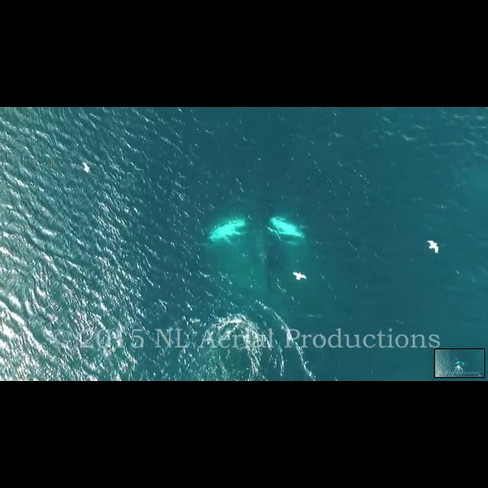hump: (204, 194, 310, 329)
